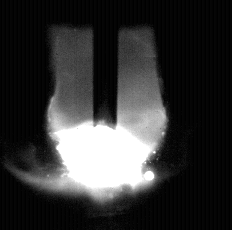arame: (94, 0, 119, 130)
poca: (56, 0, 154, 230)
